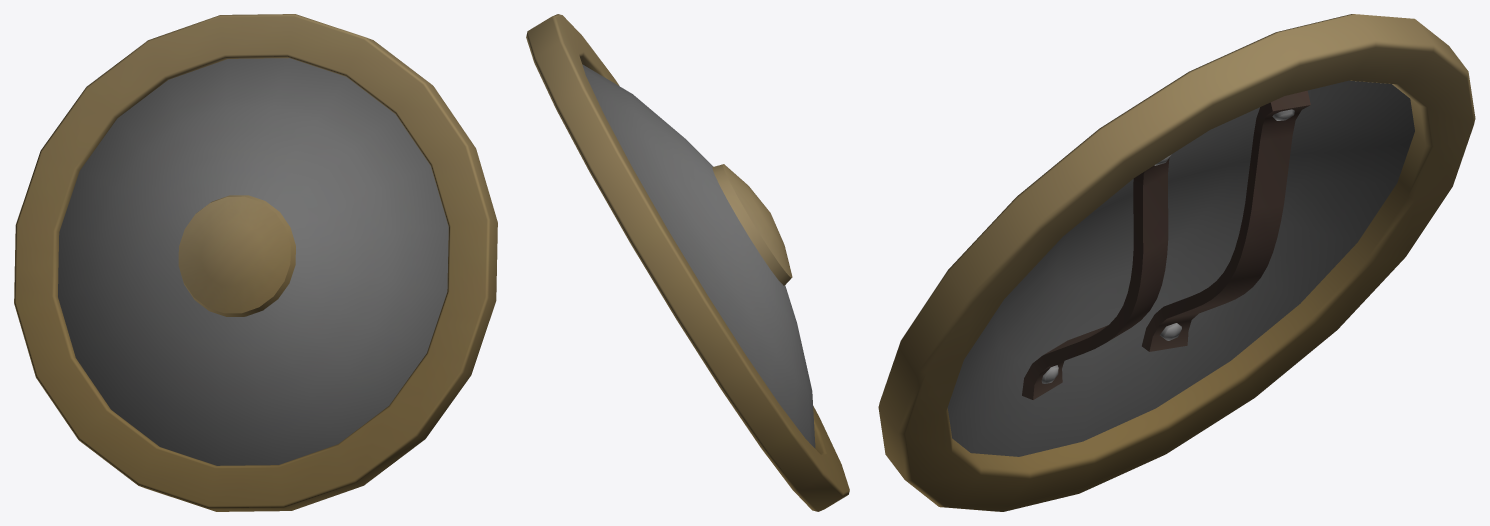
Rendered from OBJ_MetalShield.fbx.
The picture shows the model from 3 angles, left to right: view 1: azimuth 30°, elevation 25°; view 2: azimuth 150°, elevation 25°; view 3: azimuth 270°, elevation 25°; orthographic projection. The views are drawn at different scales.
Visible parts, largest first — view 1: OBJ_MetalShield; view 2: OBJ_MetalShield; view 3: OBJ_MetalShield.
Boxes of the visible parts, bbox=[...] form: OBJ_MetalShield: bbox=[14, 14, 497, 511]; OBJ_MetalShield: bbox=[526, 14, 849, 511]; OBJ_MetalShield: bbox=[878, 14, 1475, 511].
Bounding box in the file's own units: 56.84 × 65.16 × 62.54.
